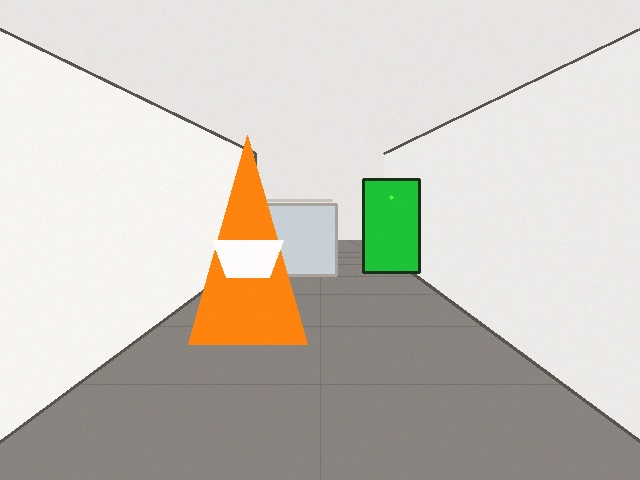charging_station: (363, 179, 419, 272)
hospital_bed: (233, 204, 336, 275)
obstacle: (188, 135, 307, 344)
